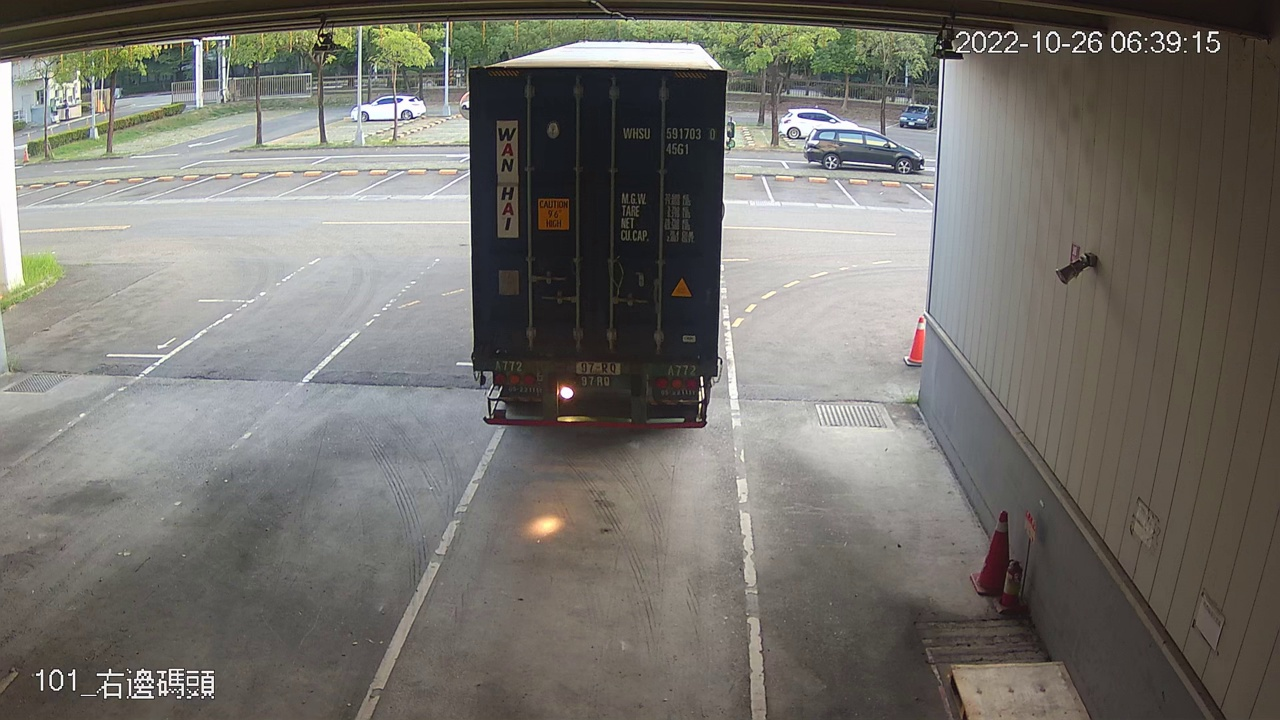container: (616, 120, 719, 160)
